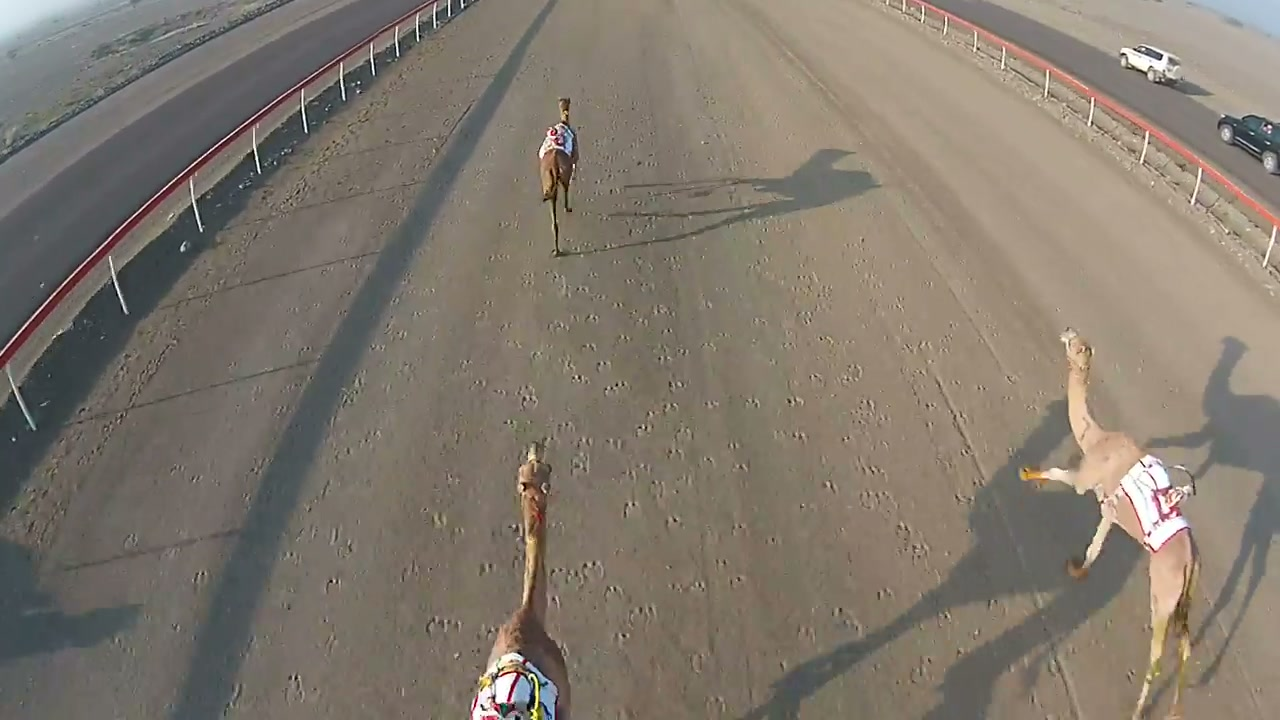animal_footprint: (737, 182, 979, 706), (500, 249, 702, 682)
